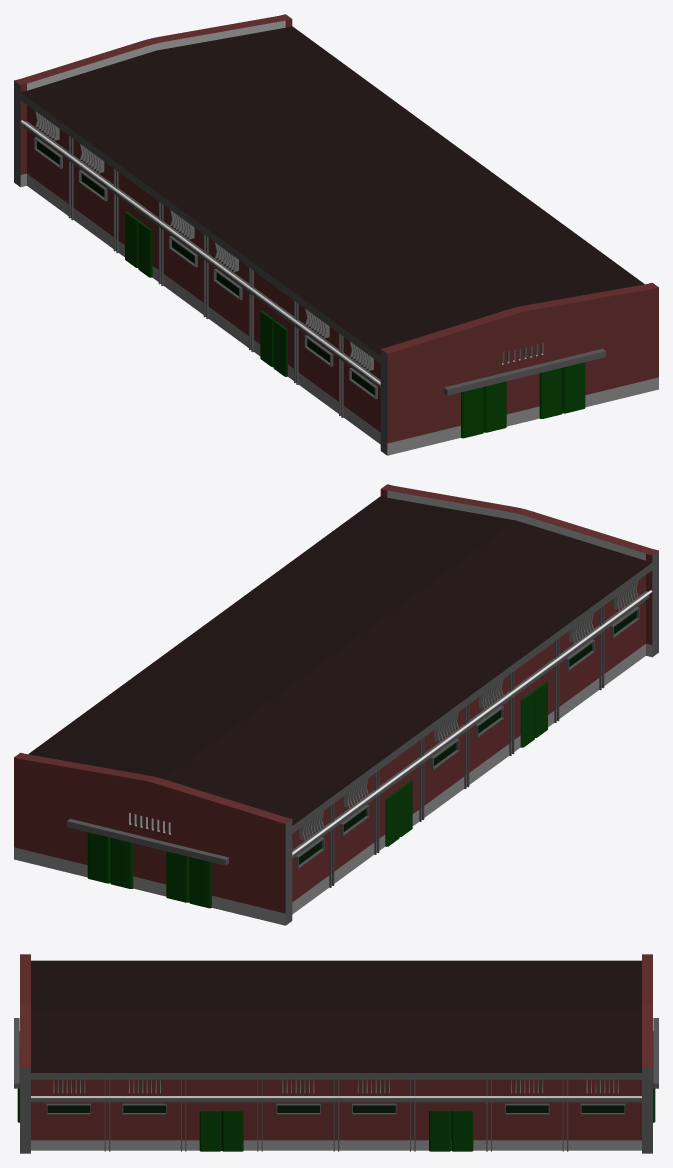
The model's file is bjhongcangku.fbx.
The picture shows the model from 3 angles, top to bottom: view 1: azimuth 30°, elevation 25°; view 2: azimuth 150°, elevation 25°; view 3: azimuth 270°, elevation 25°; orthographic projection. The views are drawn at different scales.
Parts seen in each view (by area): view 1: pCube94, pCube74, pCube73, pCube72; view 2: pCube94, pCube68, pCube69, pCube70; view 3: pCube94, pCube70, pCube72.
Part boxes in pixels (left/top/right/bottom): pCube94: left=14, top=14, right=658, bottom=455; pCube74: left=539, top=362, right=585, bottom=418; pCube73: left=461, top=381, right=506, bottom=438; pCube72: left=444, top=348, right=605, bottom=395; pCube94: left=14, top=484, right=658, bottom=925; pCube68: left=87, top=832, right=133, bottom=888; pCube69: left=166, top=851, right=211, bottom=908; pCube70: left=67, top=818, right=228, bottom=865; pCube94: left=20, top=954, right=652, bottom=1153; pCube70: left=653, top=1018, right=658, bottom=1088; pCube72: left=14, top=1018, right=19, bottom=1088.
Bounding box in the file's own units: 23.96 × 9.32 × 58.08.
